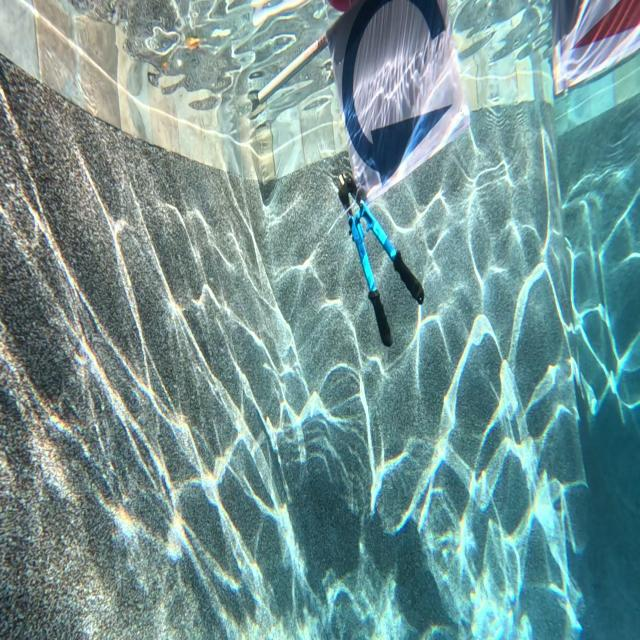blue_side: (336, 0, 459, 190)
red_side: (559, 0, 640, 77)
